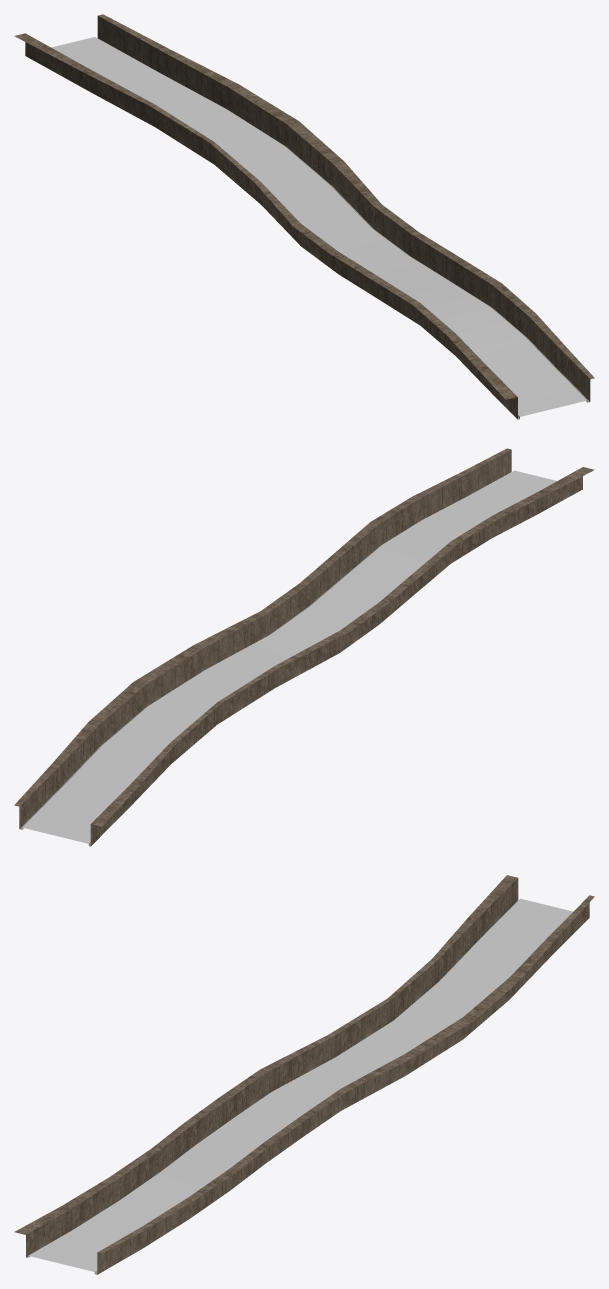
The model's file is Road_2.fbx.
3 renders of one model, top to bottom at view 1: azimuth 30°, elevation 25°; view 2: azimuth 150°, elevation 25°; view 3: azimuth 330°, elevation 25°, orthographic.
Parts seen in each view (by area): view 1: Road; view 2: Road; view 3: Road.
Part boxes in pixels (x1,y1,x2,y2): Road: [14, 14, 594, 419]; Road: [14, 448, 594, 846]; Road: [14, 875, 594, 1274].
Bounding box in the file's own units: 971 × 195 × 6383.
